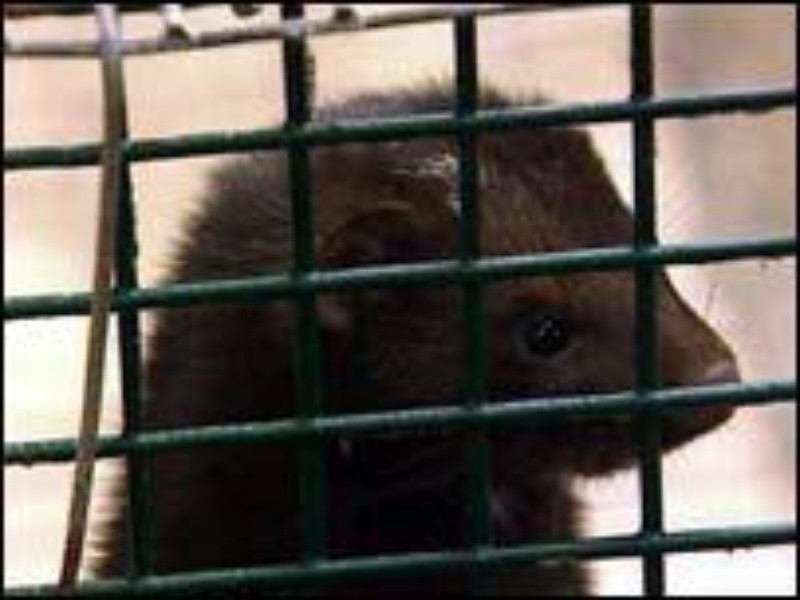minkish: (88, 76, 743, 592)
